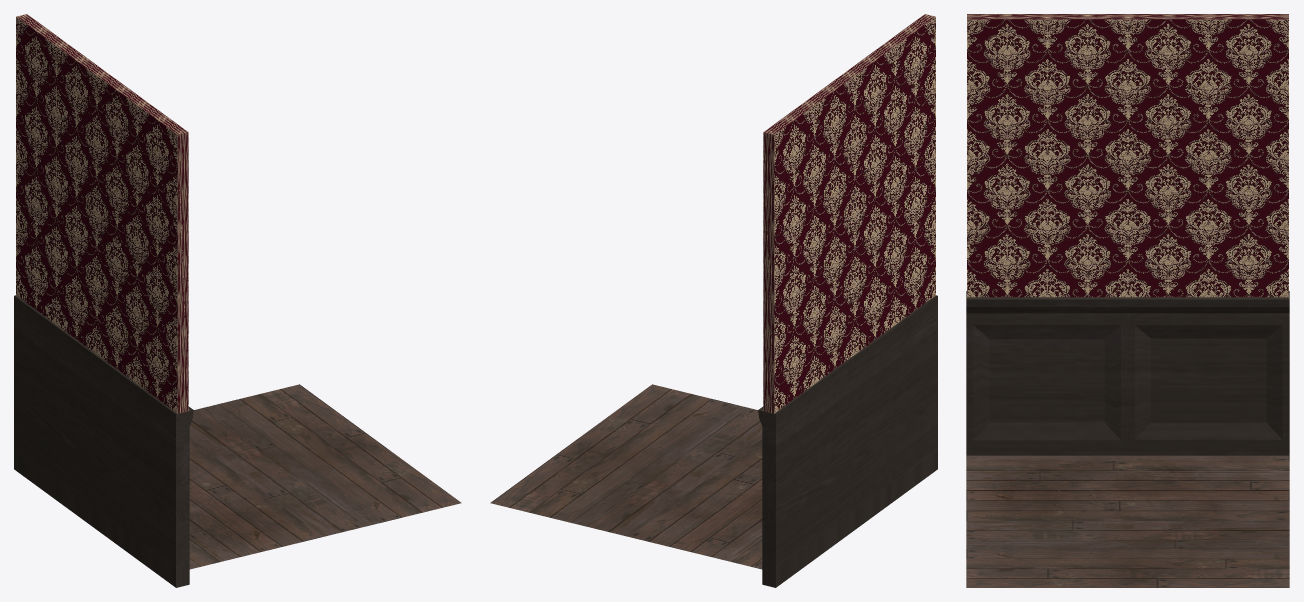
The model's file is wall.glb.
3 views of the same model, side by side, from view 1: azimuth 30°, elevation 25°; view 2: azimuth 150°, elevation 25°; view 3: azimuth 270°, elevation 25° (orthographic).
Parts seen in each view (by area): view 1: Cube.001, Cube, Plane; view 2: Cube.001, Cube, Plane; view 3: Cube.001, Cube, Plane.
Boxes of the visible parts, <box> form: Cube.001: <box>16,14,188,413</box>; Cube: <box>14,295,193,587</box>; Plane: <box>189,384,461,569</box>; Cube.001: <box>763,14,935,413</box>; Cube: <box>758,295,937,587</box>; Plane: <box>490,384,762,569</box>; Cube.001: <box>967,14,1288,297</box>; Cube: <box>966,291,1289,455</box>; Plane: <box>966,455,1289,587</box>.
Bounding box in the file's own units: 15.9 × 24.06 × 15.64.
Materials: 3 (3 with a texture image).
